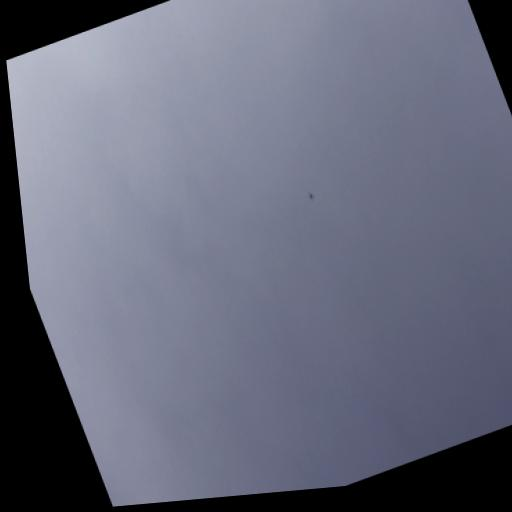drones: (305, 188, 317, 203)
